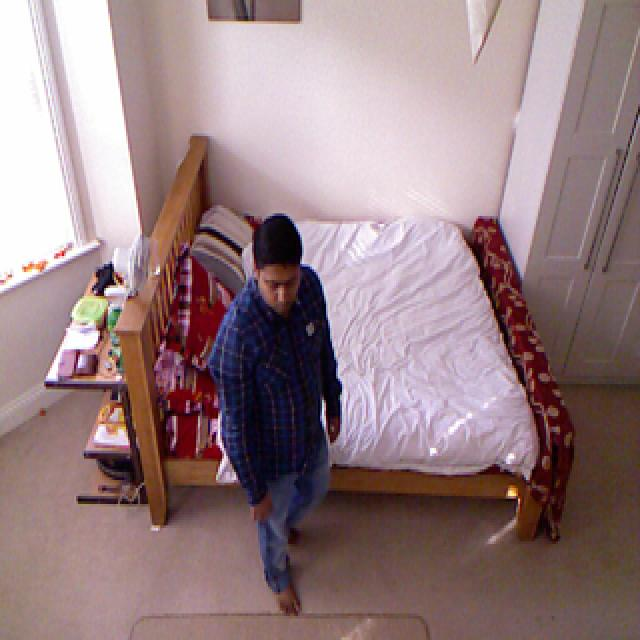standing: (214, 214, 343, 616)
